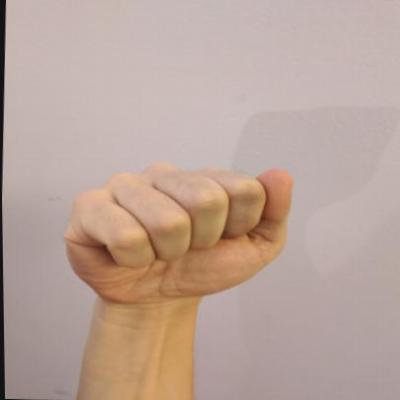hand: (51, 152, 304, 316)
